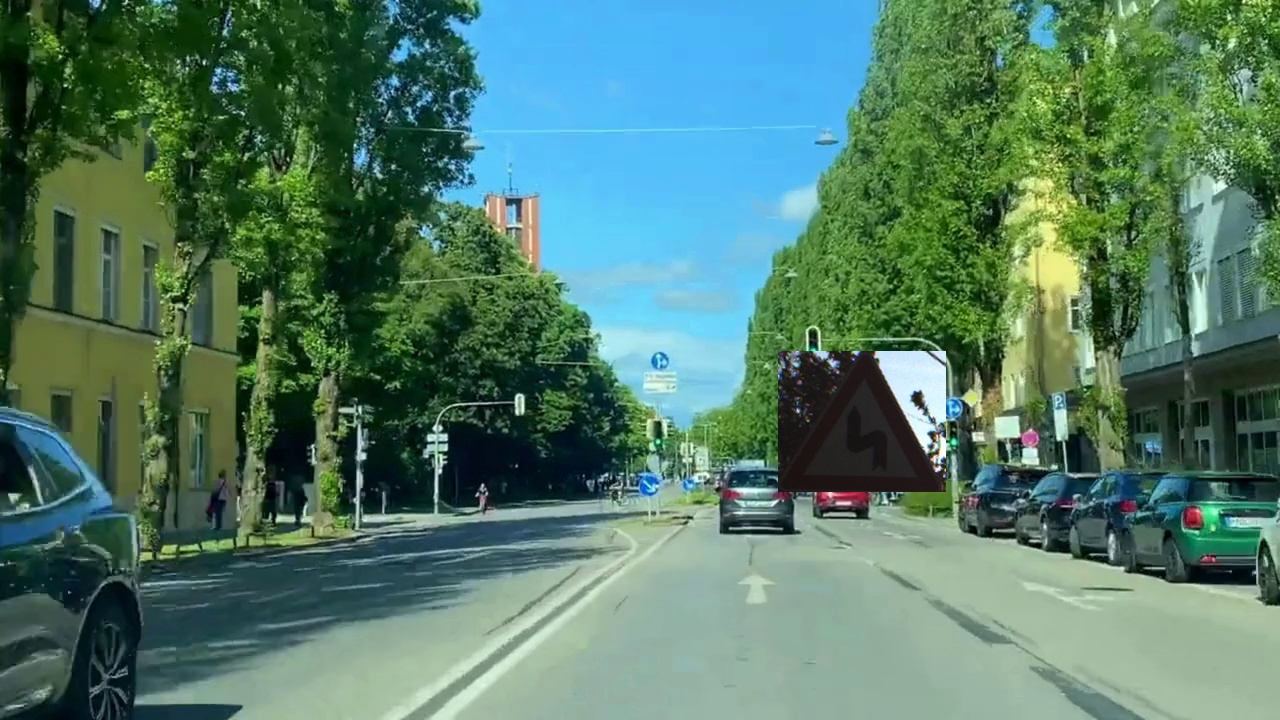Double curve: (778, 351, 946, 492)
